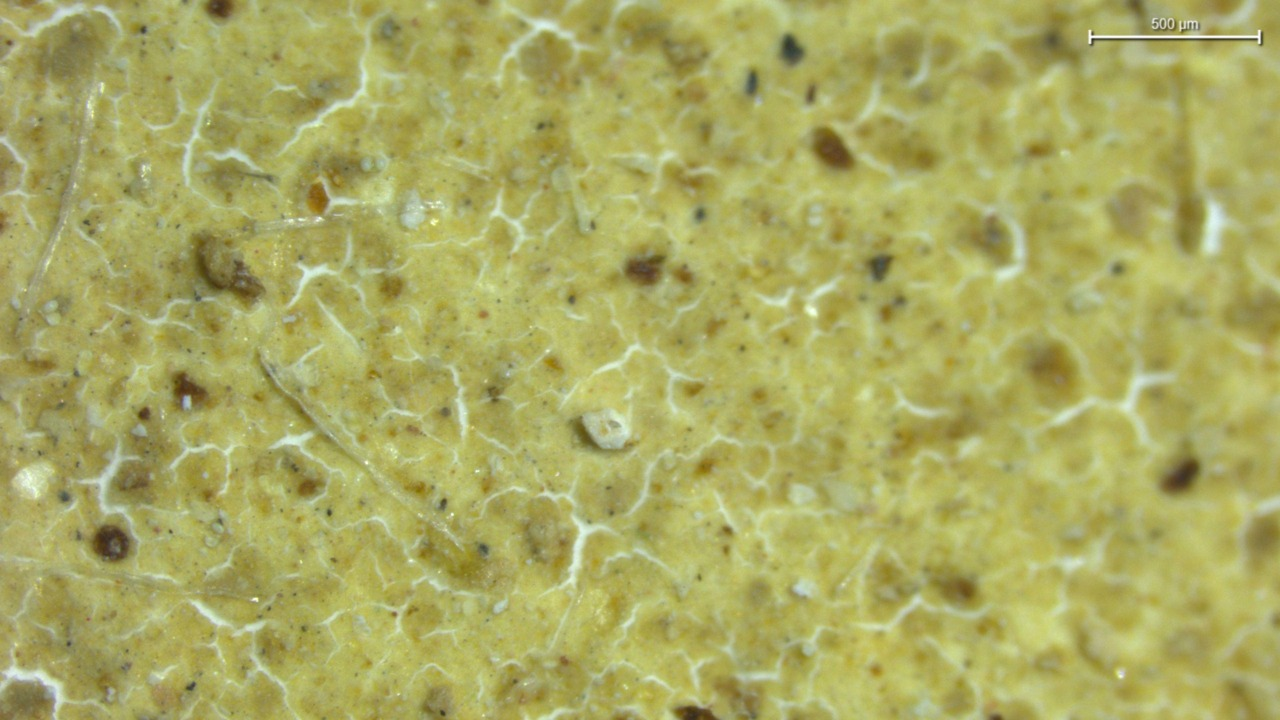microplastic_fragment: (197, 236, 264, 297), (581, 408, 632, 449)
